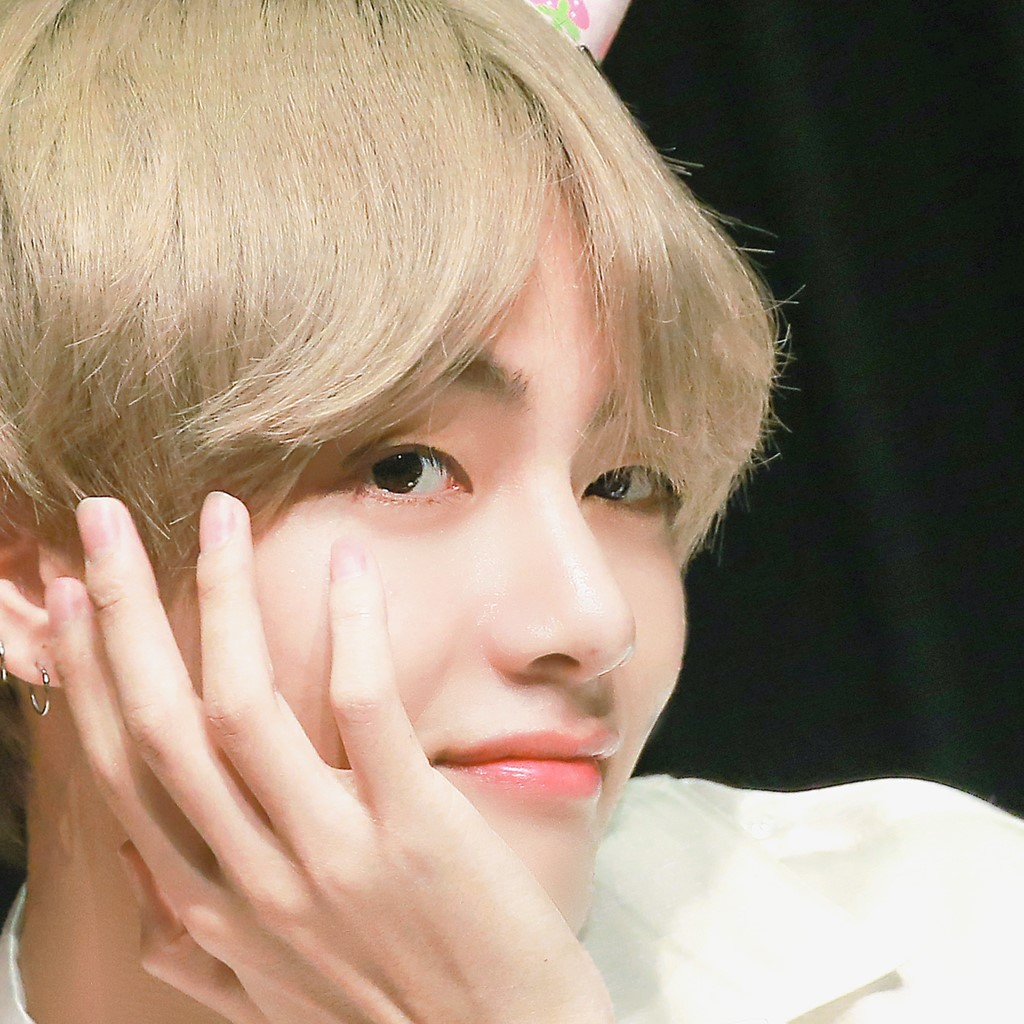sin_mascara: (102, 123, 714, 949)
